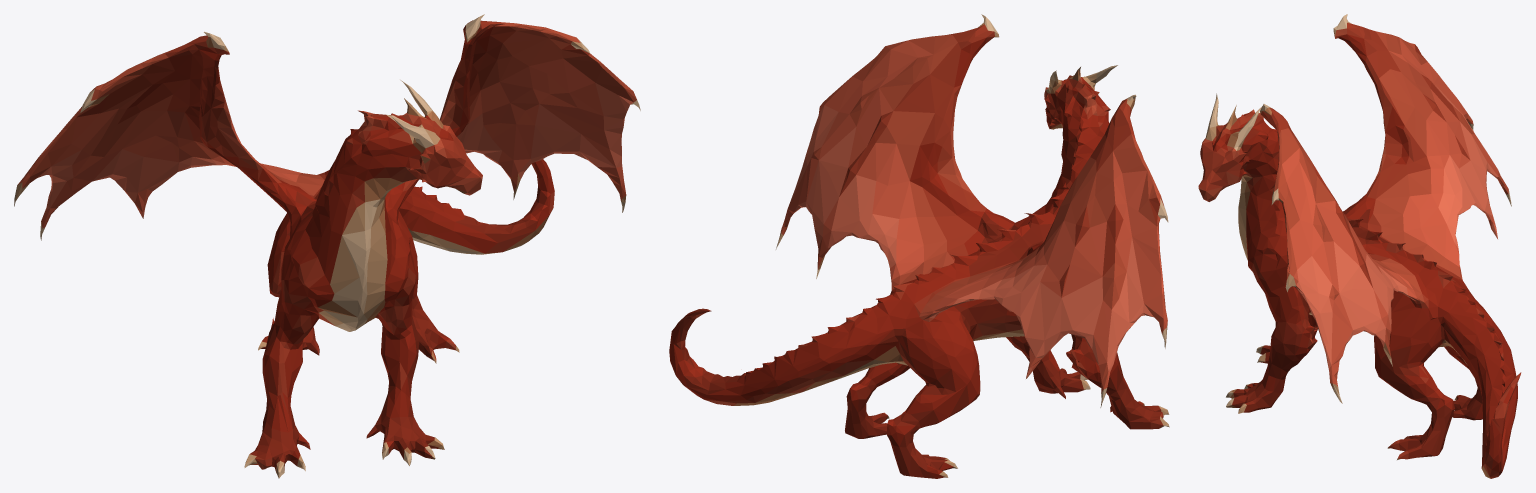
The model's file is low-poly-dragon.glb.
The picture shows the model from 3 angles, left to right: view 1: azimuth 30°, elevation 25°; view 2: azimuth 150°, elevation 25°; view 3: azimuth 270°, elevation 25°; orthographic projection. The views are drawn at different scales.
Parts seen in each view (by area): view 1: low-poly-dragon; view 2: low-poly-dragon; view 3: low-poly-dragon.
Boxes of the visible parts, x1,y1,x2,y2 form: low-poly-dragon: (14, 14, 640, 478); low-poly-dragon: (669, 14, 1169, 478); low-poly-dragon: (1198, 14, 1521, 478).
Size of the model in its own units: 5.05 by 3.62 by 3.17.
Materials: 1 (1 with a texture image).
